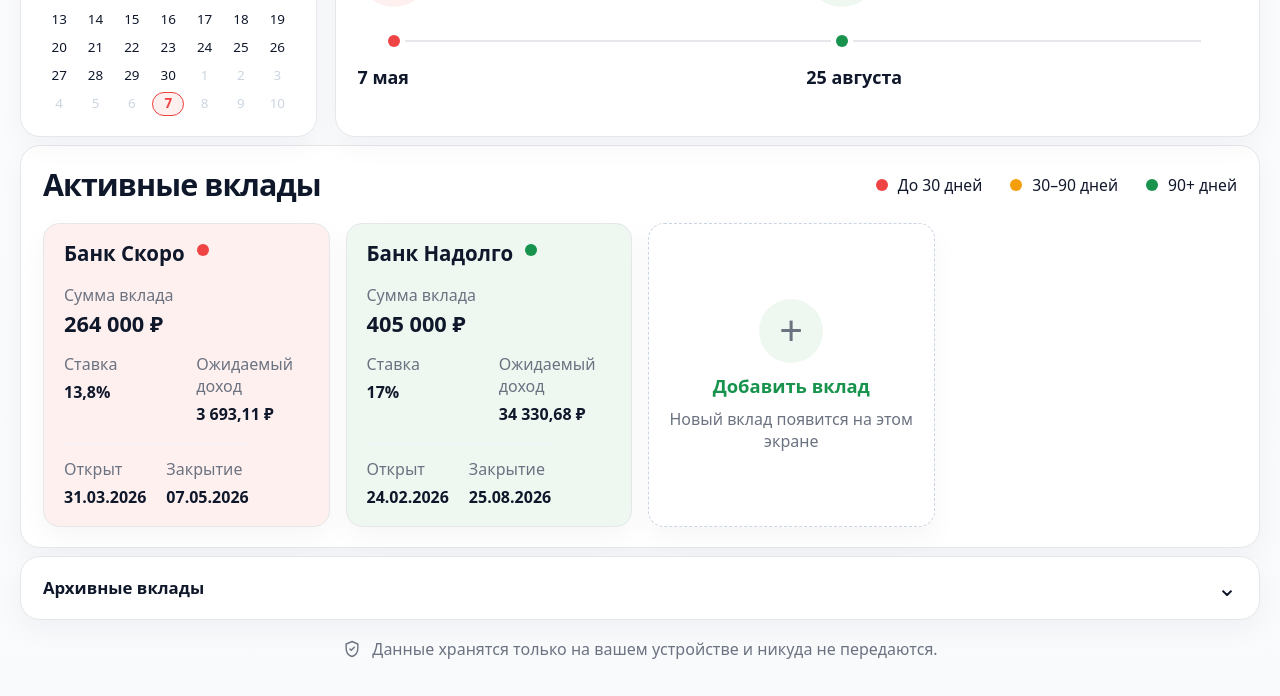
Test: App › opens create modal from the add tile
The width and height of the screenshot is (1280, 696).
(page scrolled)
Click the button with test id "add-deposit-tile": (791, 375) left=648, top=223, right=934, bottom=527
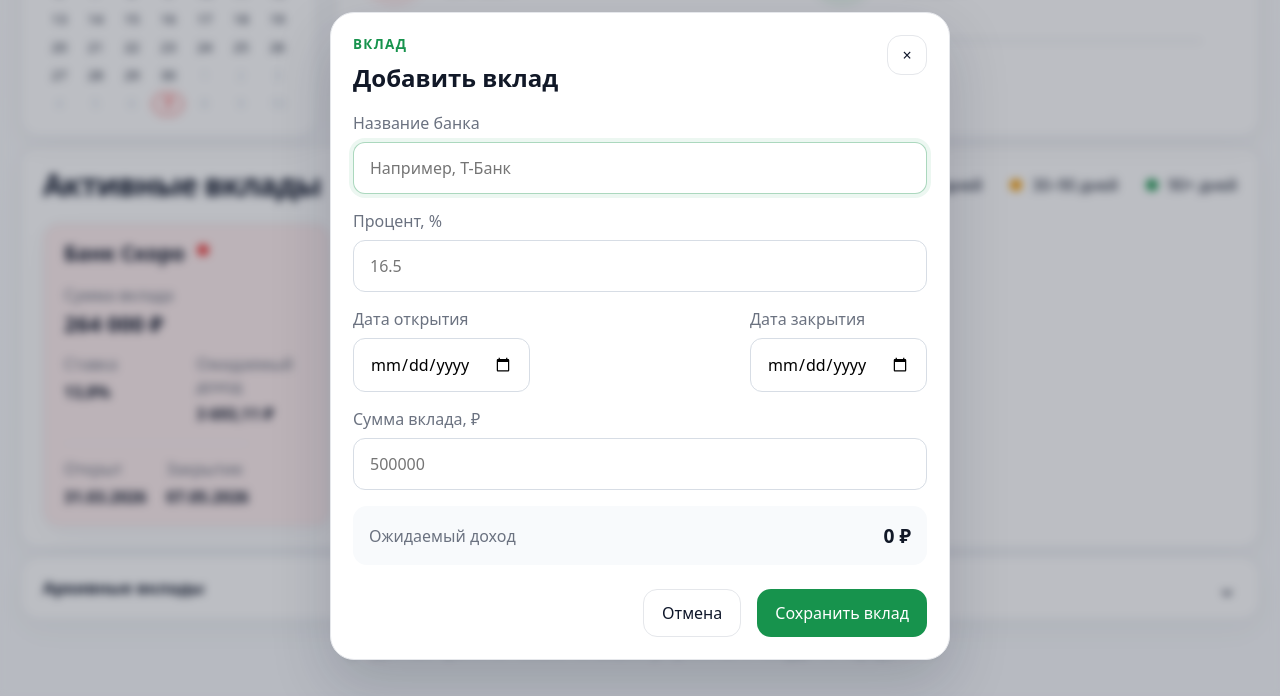
Now the dialog is shown, box left=330, top=12, right=950, bottom=660
Now the heading "Добавить вклад" is shown, box left=353, top=61, right=558, bottom=94
